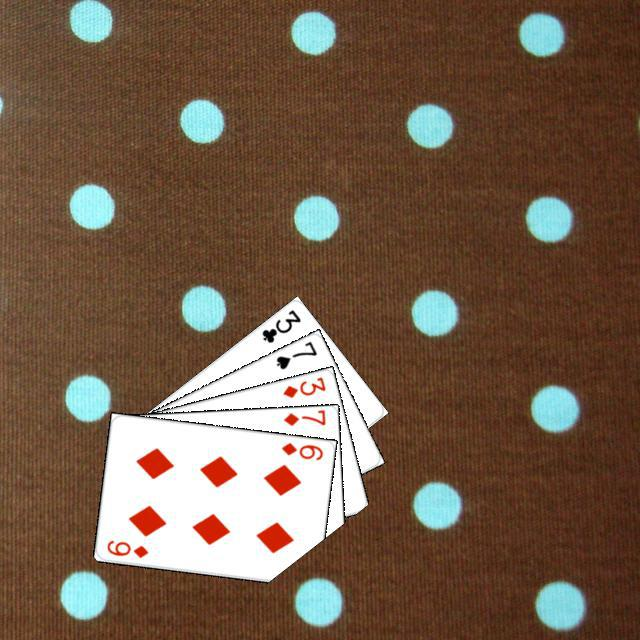3c: (257, 304, 303, 345)
3d: (278, 372, 327, 400)
6d: (276, 438, 325, 462), (102, 535, 150, 559)
7d: (279, 406, 327, 427)
7s: (271, 337, 318, 371)
